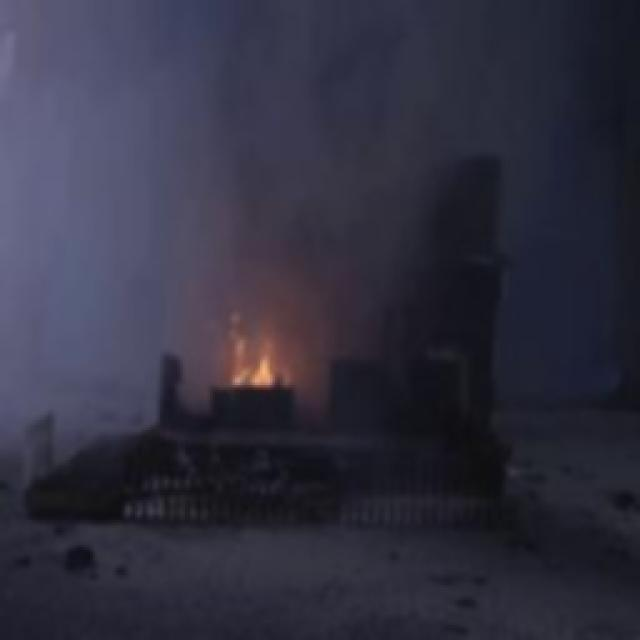fire: (199, 254, 319, 436)
smoke: (2, 4, 360, 296)
